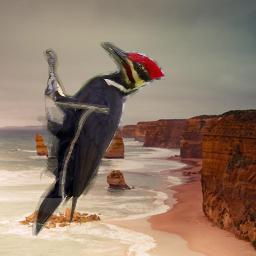Woodpecker: (32, 42, 166, 236)
